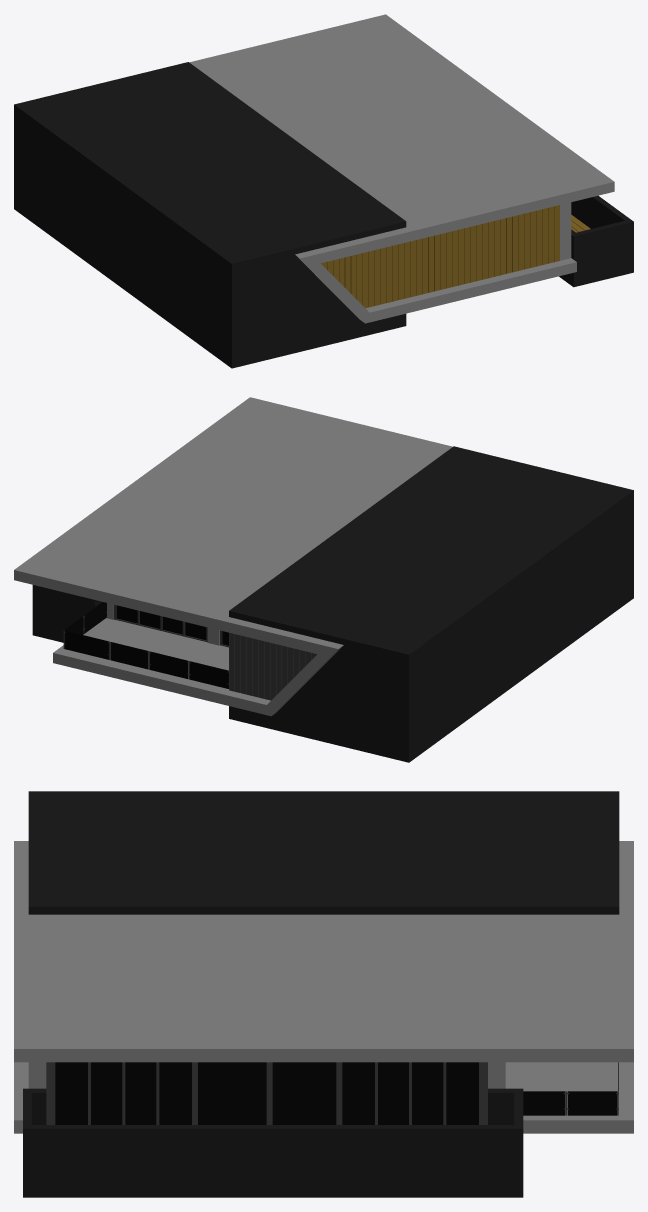
The model's file is SM_BuildingMK1_Middle-Roof01.fbx.
The picture shows the model from 3 angles, top to bottom: view 1: azimuth 30°, elevation 25°; view 2: azimuth 150°, elevation 25°; view 3: azimuth 270°, elevation 25°; orthographic projection. The views are drawn at different scales.
Parts seen in each view (by area): view 1: Middle/Roof01; view 2: Middle/Roof01; view 3: Middle/Roof01.
Part boxes in pixels (<box>): Middle/Roof01: <box>14,14,633,368</box>; Middle/Roof01: <box>14,397,633,762</box>; Middle/Roof01: <box>14,791,633,1197</box>.
Size of the model in its own units: 2120 by 530 by 2100.
